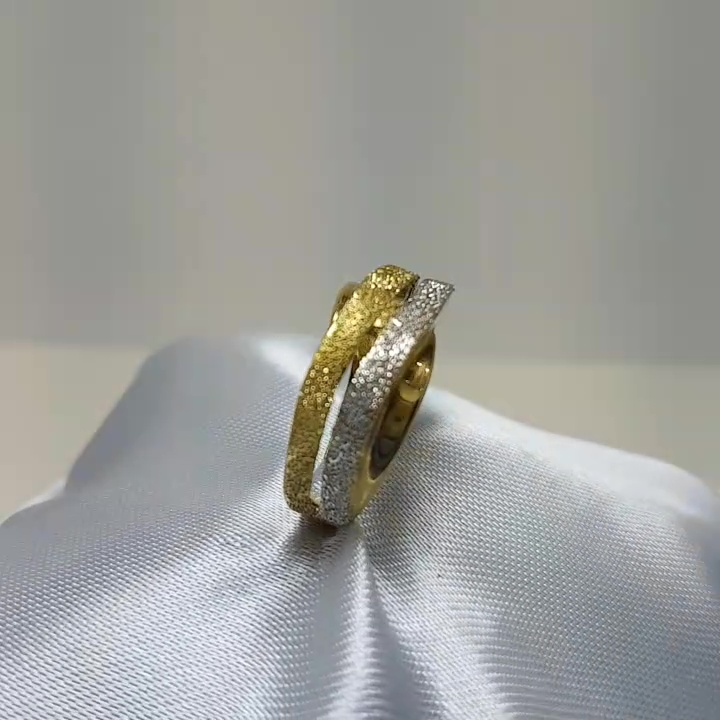Ring 5: (259, 228, 479, 542)
